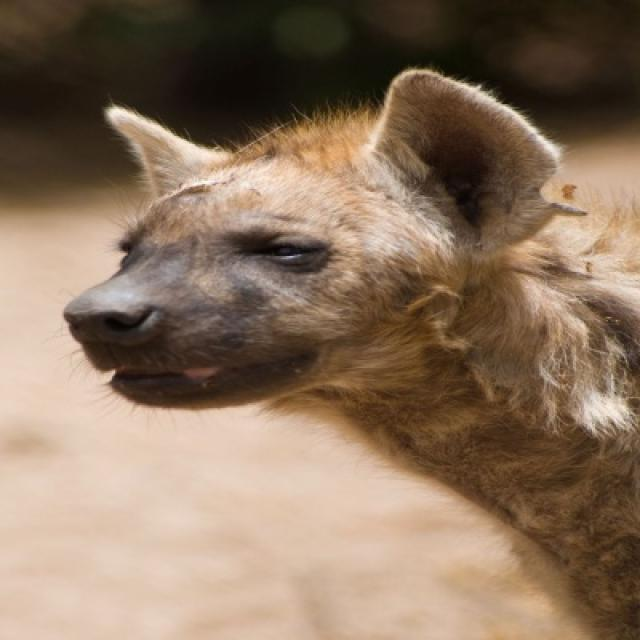hyena: (64, 69, 638, 638)
